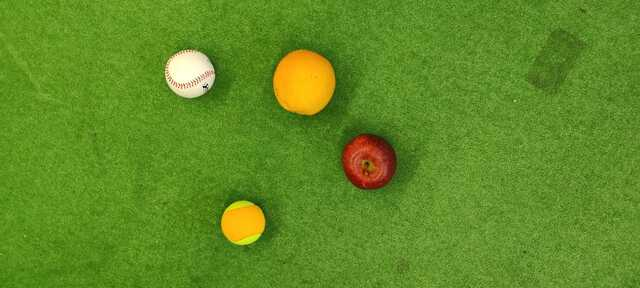013_apple: (339, 131, 401, 192)
017_orange: (271, 46, 338, 120)
055_baseball: (162, 46, 217, 101)
056_tennis_ball: (217, 196, 268, 249)
